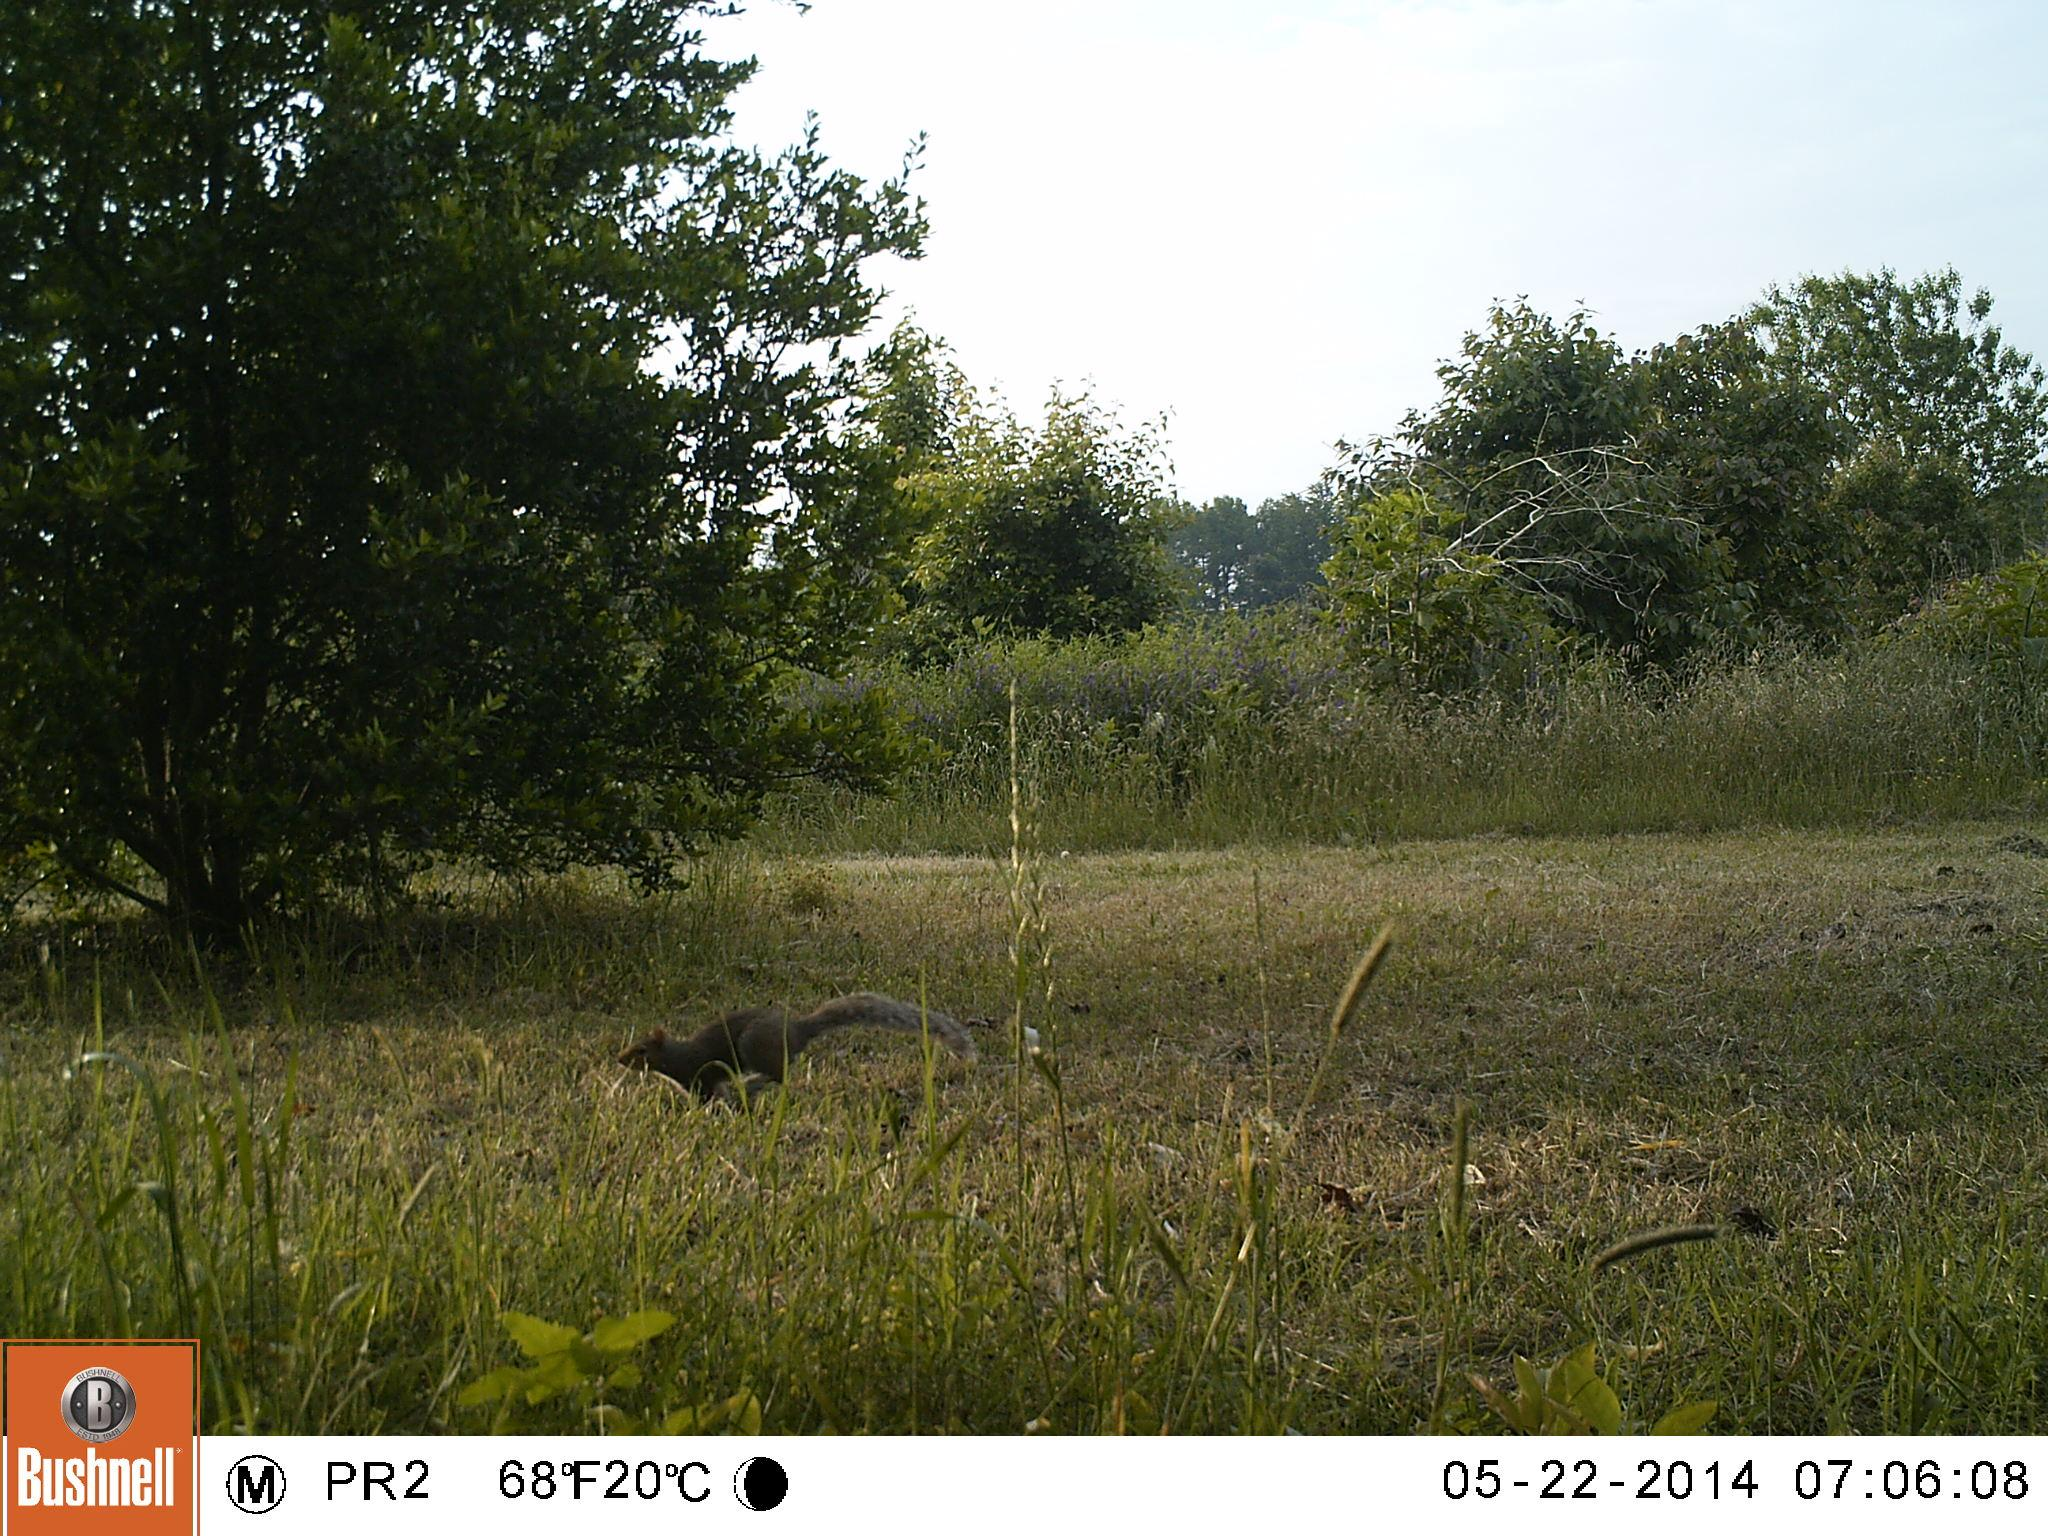Animal: (619, 992, 974, 1139)
